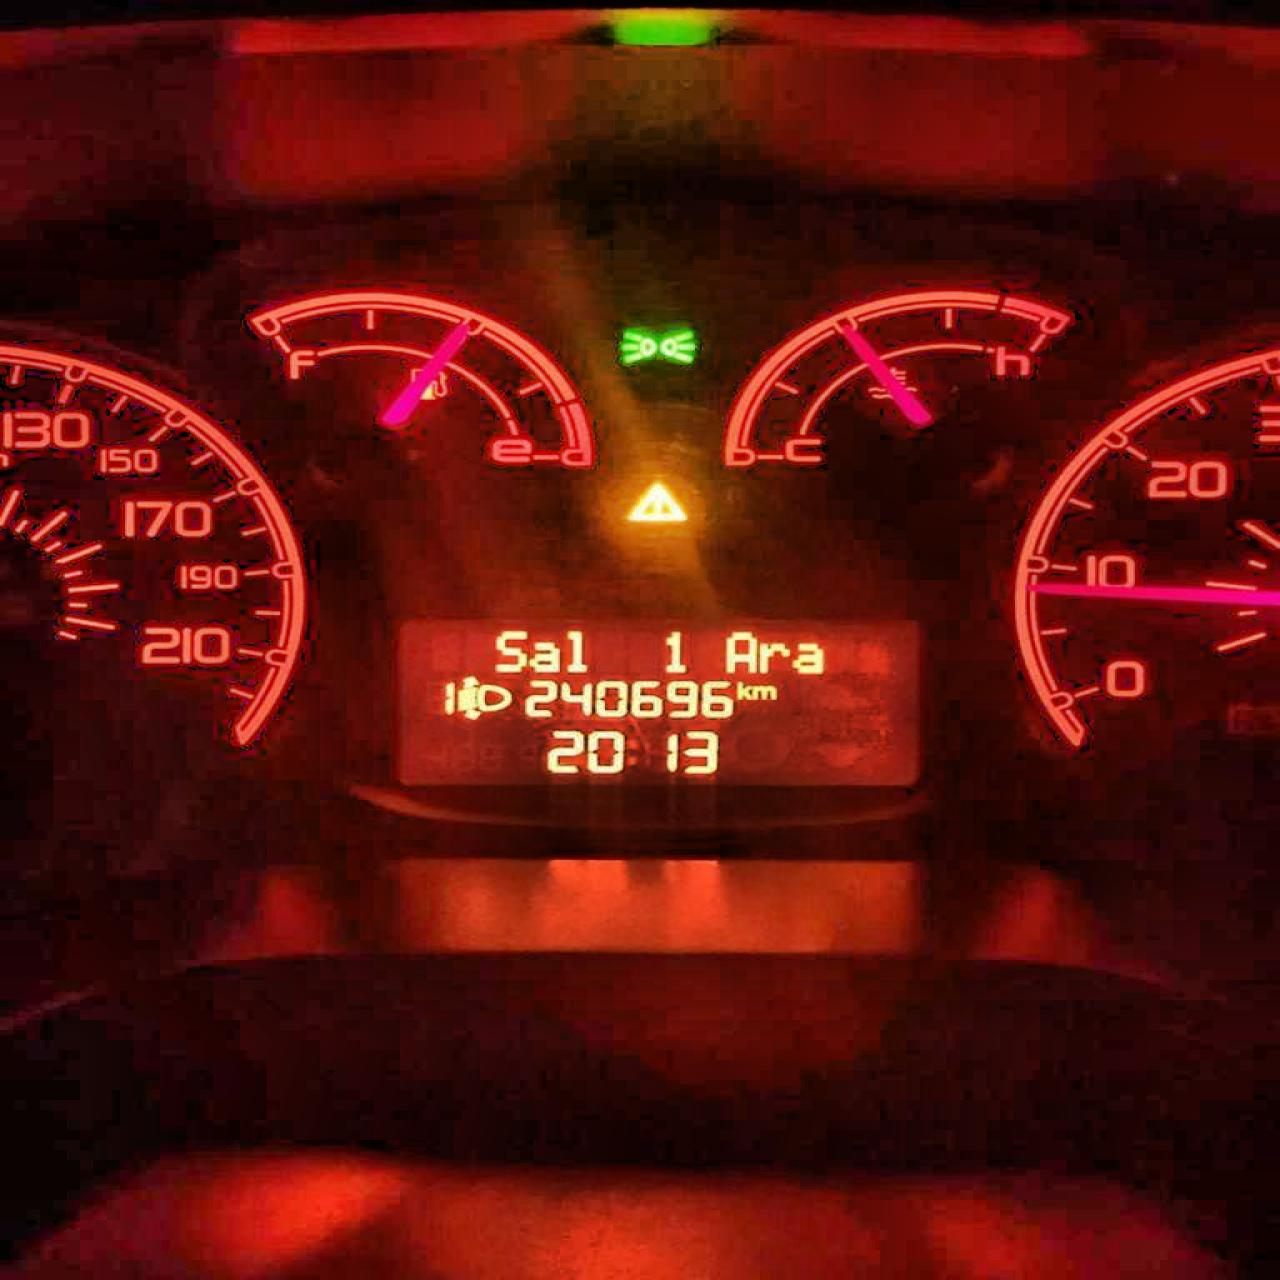0: (584, 728, 624, 774), (593, 678, 627, 717)
1: (662, 627, 693, 675), (663, 730, 679, 772), (440, 679, 454, 716)
2: (546, 727, 584, 772), (522, 678, 557, 719)
3: (683, 728, 719, 774)
4: (560, 679, 592, 716)
6: (700, 678, 734, 717), (628, 679, 660, 717)
9: (663, 678, 699, 717)
X: (723, 628, 757, 674), (493, 627, 525, 673), (794, 640, 825, 675), (530, 639, 560, 673), (757, 639, 788, 673), (565, 627, 587, 673), (625, 736, 639, 765), (754, 682, 777, 700), (734, 679, 751, 699)
odometer: (376, 613, 933, 798)
